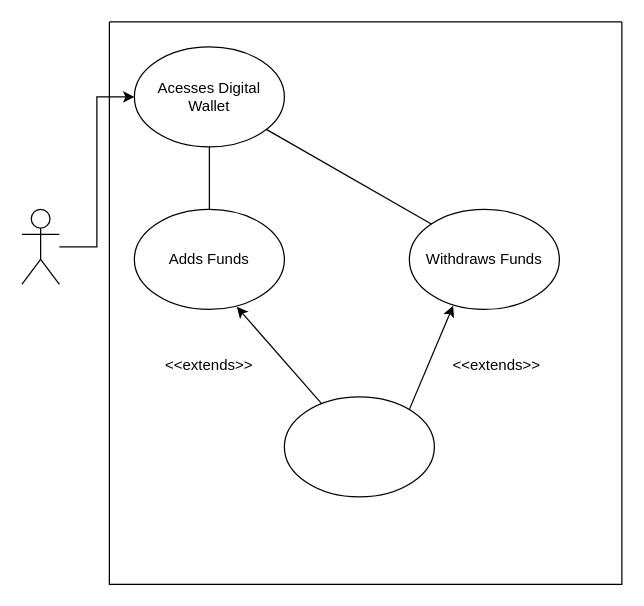
Some shapes in this 644 by 606 pixel diagram are drawn without their labels. Here are the shapes that lost their labels. From the top down, the centre of each, then its label:
At point (40, 246): "User".
At point (358, 446): "Invalid Input".
